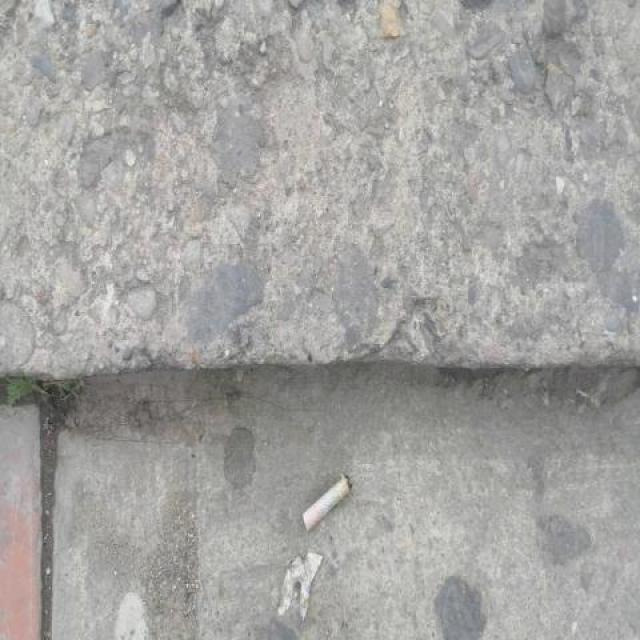non-organic waste: (299, 466, 357, 534)
